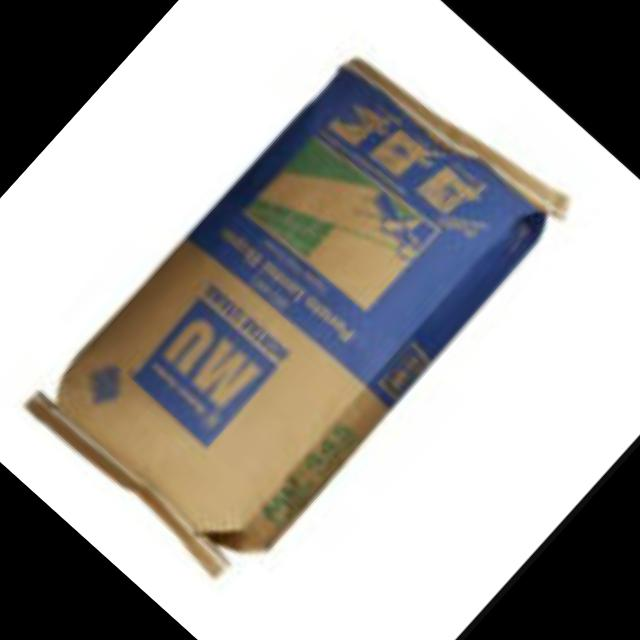KantongSemen: (18, 24, 574, 598)
